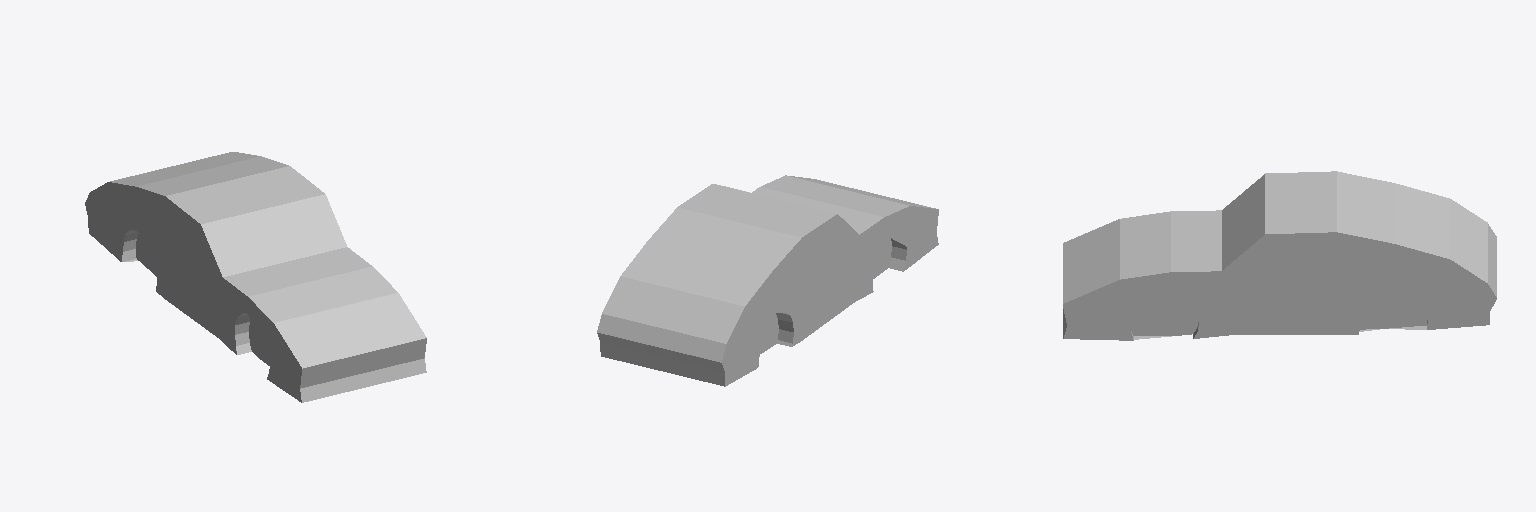
Rendered from cartest.obj.
3 renders of one model, left to right at view 1: azimuth 30°, elevation 25°; view 2: azimuth 150°, elevation 25°; view 3: azimuth 270°, elevation 25°, orthographic.
Visible parts, largest first — view 1: pCube6; view 2: pCube6; view 3: pCube6.
Part boxes in pixels (left/top/right/bottom): pCube6: left=85, top=152, right=426, bottom=402; pCube6: left=597, top=175, right=938, bottom=386; pCube6: left=1063, top=171, right=1496, bottom=340.
Bounding box in the file's own units: 1 × 0.8303 × 3.02.